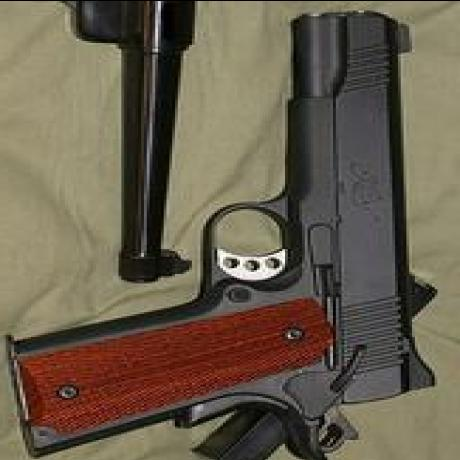weapon: (8, 10, 438, 460)
